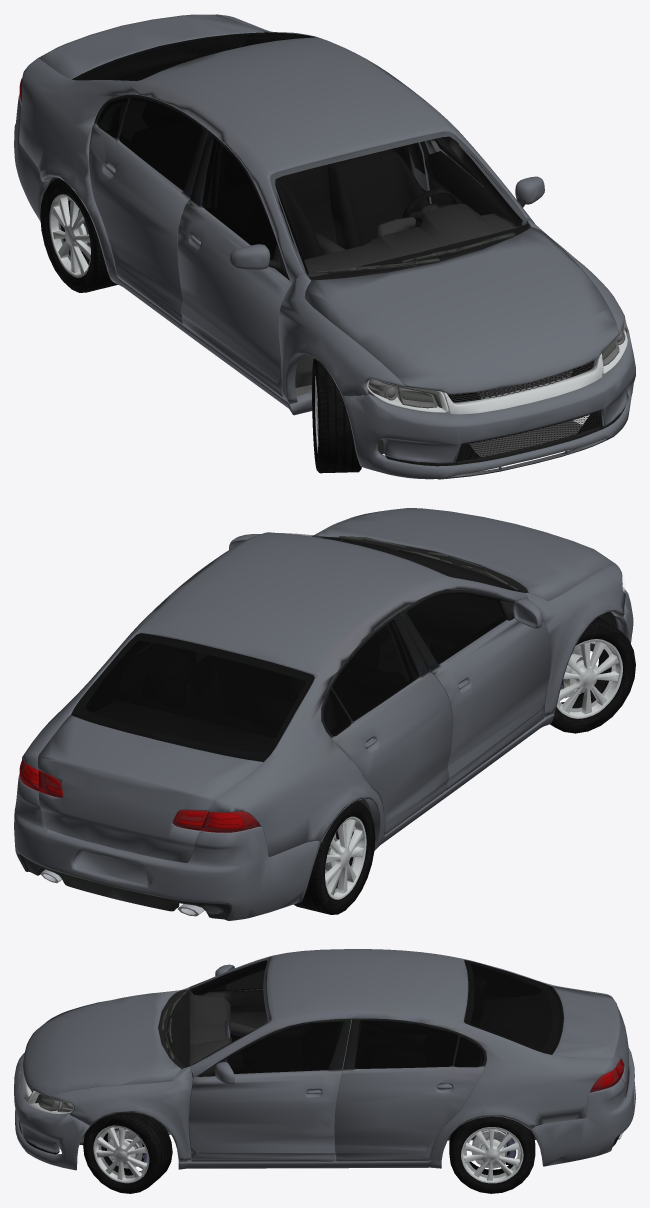
Rendered from generic_sedan.glb.
3 views of the same model, one above another, from view 1: azimuth 30°, elevation 25°; view 2: azimuth 150°, elevation 25°; view 3: azimuth 270°, elevation 25° (orthographic). The views are drawn at different scales.
Visible parts, largest first — view 1: Object_23, Object_209, Object_29, Object_43, Object_25, Object_241, Object_81, Object_137, Object_121, Object_65, Object_123; view 2: Object_23, Object_43, Object_241, Object_137, Object_25, Object_209, Object_7; view 3: Object_23, Object_43, Object_209, Object_241, Object_29, Object_137, Object_25, Object_7, Object_81.
Boxes of the visible parts, x1=… form: Object_23: x1=14, y1=14, x2=635, y2=479; Object_209: x1=270, y1=132, x2=527, y2=276; Object_29: x1=275, y1=136, x2=523, y2=276; Object_43: x1=19, y1=32, x2=481, y2=259; Object_25: x1=21, y1=91, x2=625, y2=466; Object_241: x1=40, y1=178, x2=361, y2=473; Object_81: x1=366, y1=324, x2=627, y2=414; Object_137: x1=49, y1=194, x2=362, y2=453; Object_121: x1=457, y1=412, x2=599, y2=461; Object_65: x1=49, y1=51, x2=582, y2=456; Object_123: x1=442, y1=360, x2=594, y2=402; Object_23: x1=14, y1=508, x2=633, y2=920; Object_43: x1=19, y1=593, x2=505, y2=832; Object_241: x1=294, y1=617, x2=635, y2=914; Object_137: x1=325, y1=639, x2=622, y2=899; Object_25: x1=21, y1=536, x2=622, y2=830; Object_209: x1=280, y1=533, x2=520, y2=591; Object_7: x1=40, y1=645, x2=582, y2=916; Object_23: x1=14, y1=949, x2=635, y2=1170; Object_43: x1=225, y1=960, x2=624, y2=1092; Object_209: x1=167, y1=957, x2=270, y2=1067; Object_241: x1=83, y1=1112, x2=535, y2=1193; Object_29: x1=189, y1=960, x2=423, y2=1107; Object_137: x1=93, y1=1125, x2=523, y2=1183; Object_25: x1=18, y1=984, x2=621, y2=1154; Object_7: x1=107, y1=1129, x2=623, y2=1168; Object_81: x1=20, y1=1061, x2=73, y2=1114.
Size of the model in its own units: 2.16 by 1.5 by 4.98.
Materials: 13 (10 with a texture image).
